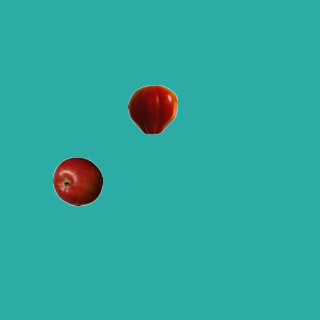Apple Braeburn: (52, 156, 102, 206)
Tomato 1: (127, 84, 177, 134)
